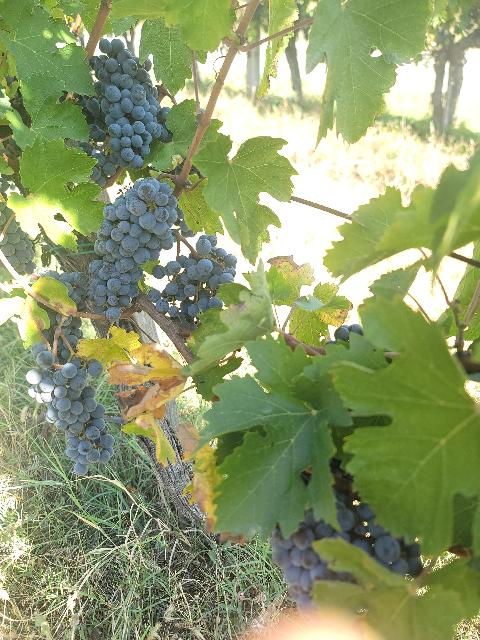grapes: (89, 178, 178, 321), (26, 341, 115, 476), (84, 39, 168, 170), (149, 235, 236, 329)
